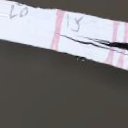crackTip: (50, 25, 128, 55)
